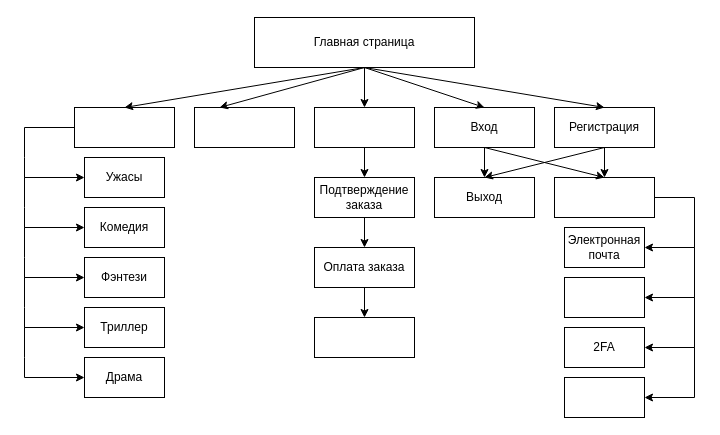
Image size: 720x435. Some labels were removed from this diagram. The shapes that lost their labels are listed below. From the top down, each one's box as (x1, y1, x2, y2) in pixels, then its label:
(74, 106, 174, 148): Все фильмы
(194, 106, 294, 148): Библиотека игр
(314, 106, 414, 148): Оформление заказа
(554, 176, 654, 218): Личный кабинет
(564, 276, 644, 318): Пароль
(314, 316, 414, 358): Заказ оформлен и оплачен
(564, 376, 644, 418): Личные данные
